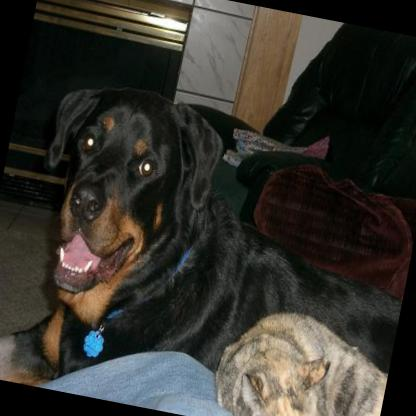Rottweiler: (3, 73, 416, 416)
